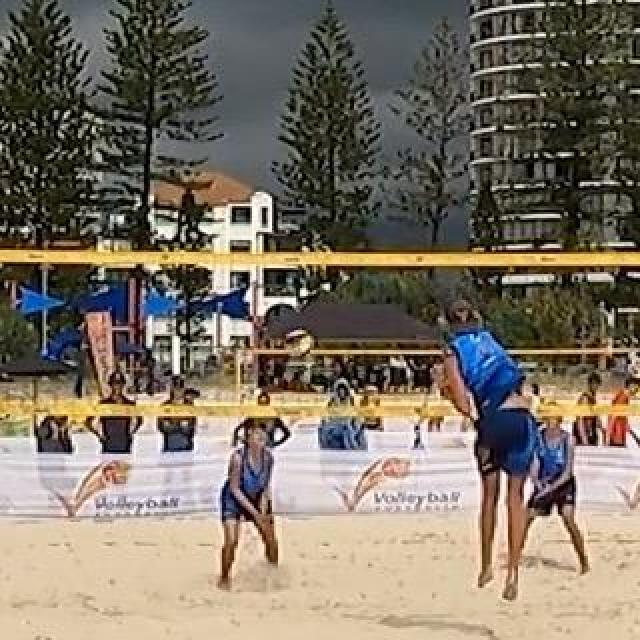volleyball: (285, 330, 313, 356)
